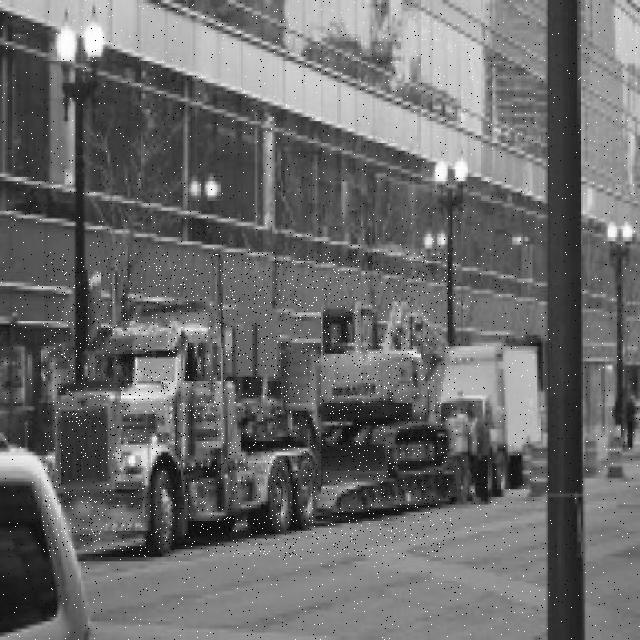Tractor Trailer: (43, 252, 456, 557)
